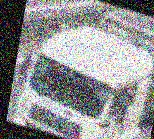truck: (12, 0, 154, 139)
